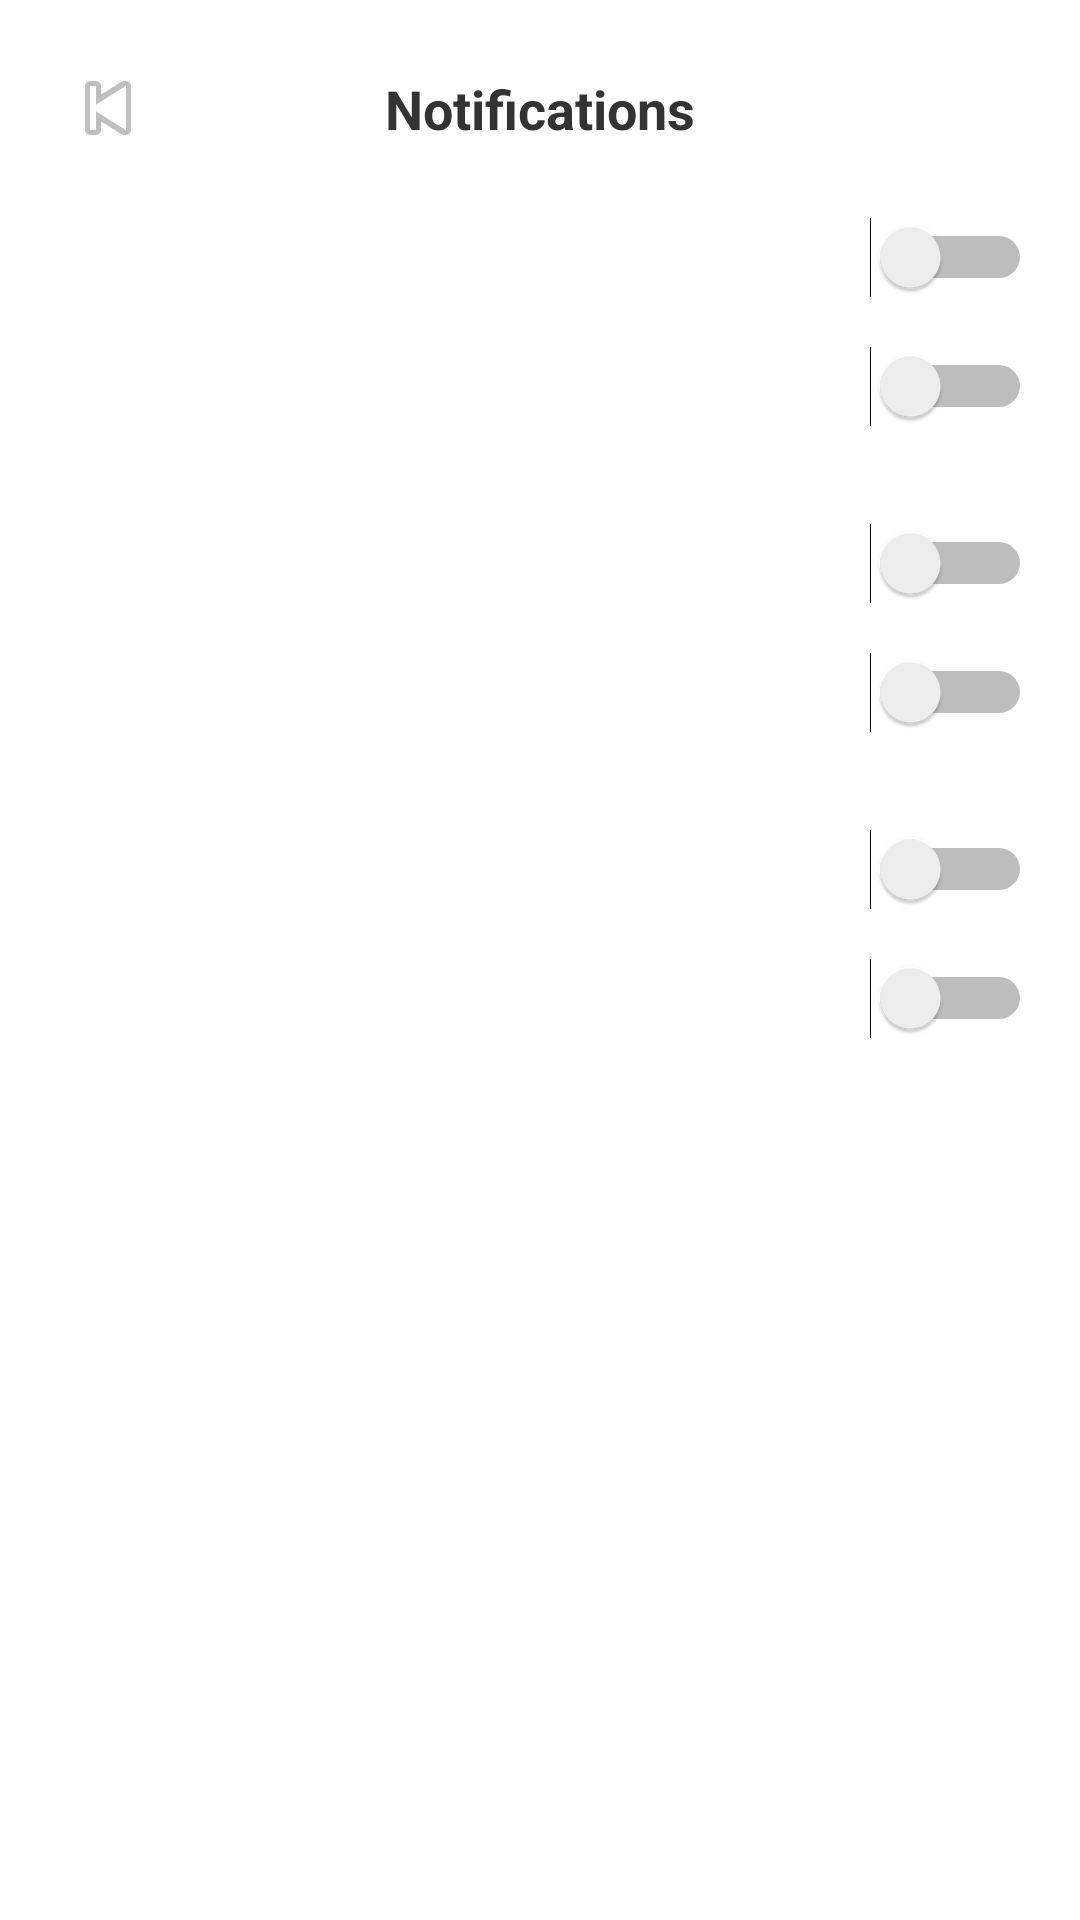

Where to tap for icons on this 1080x1920 app screen, as (x,y):
Back: (108,108)
